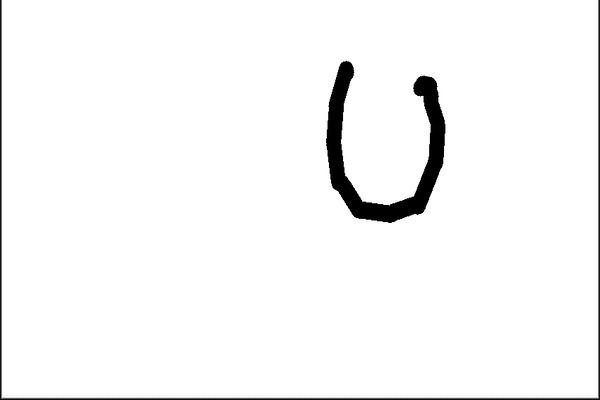U: (319, 56, 444, 227)
